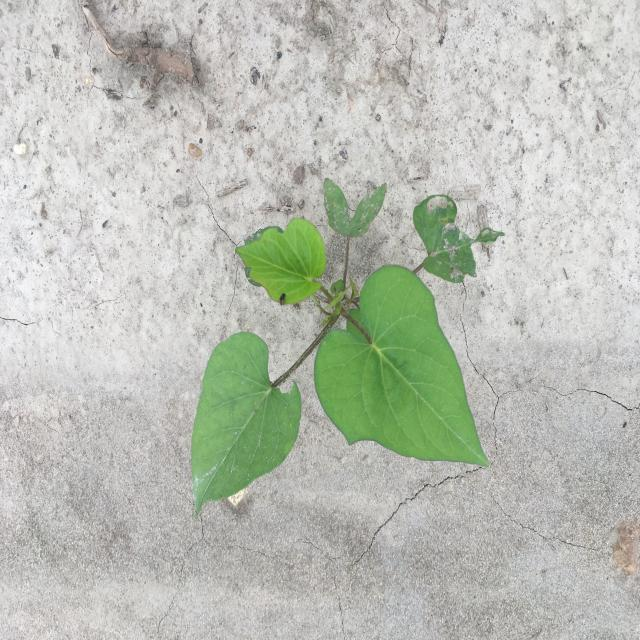MorningGlory: (191, 178, 506, 520)
